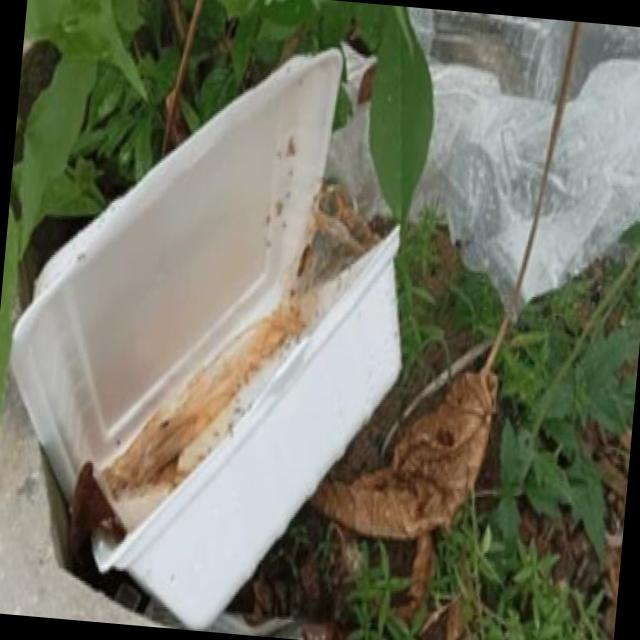electronic: (0, 10, 431, 640)
